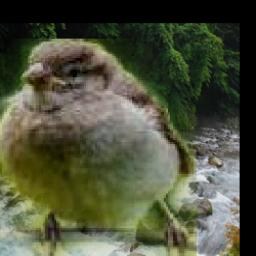Sparrow: (0, 39, 198, 256)
